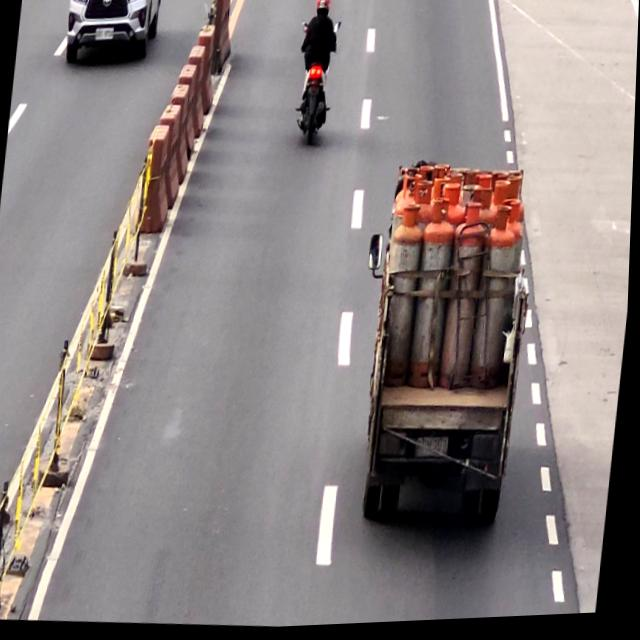Motorcycle: (294, 0, 341, 153)
Truck: (365, 164, 537, 522)
